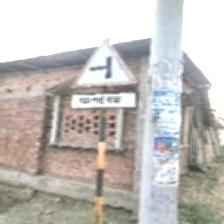Side-road-left: (75, 39, 138, 108)
